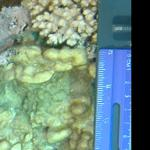alive: (4, 5, 99, 146)
